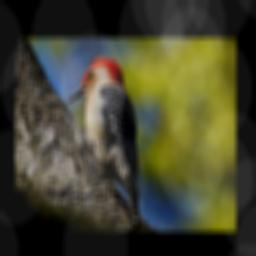Woodpecker: (62, 57, 139, 215)
